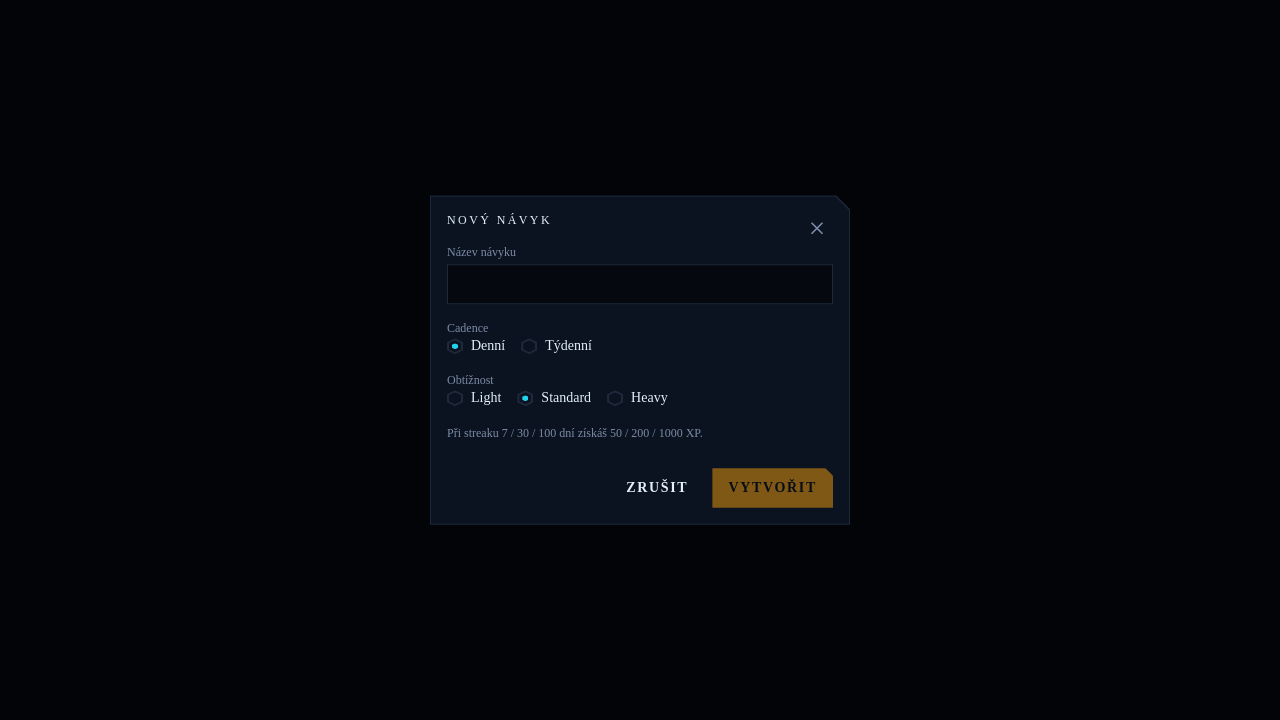
Scenario: HabitDialog (create mode) › shows weeklyTarget input when cadence=weekly is selected
The width and height of the screenshot is (1280, 720).
Click the radio button labelled "Týdenní" at [557, 346], box top-left (521, 336), bottom-right (592, 356)
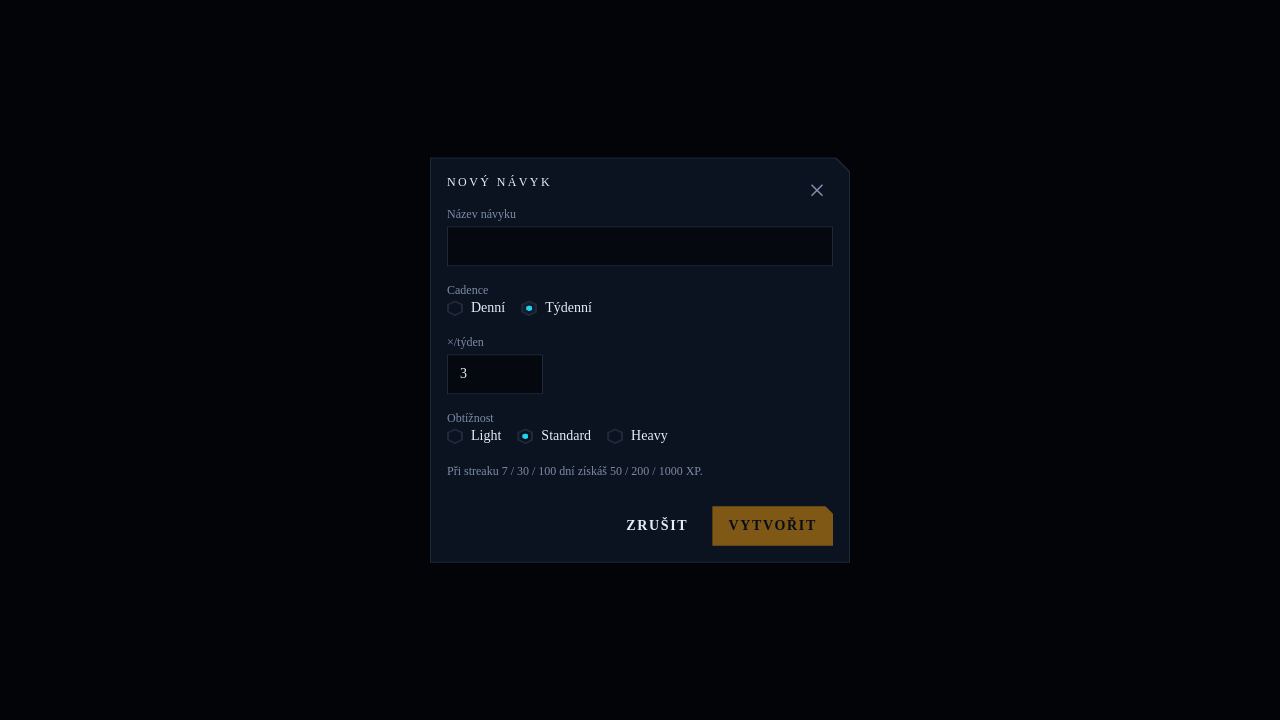
Check: the number field labelled "×/týden" is shown, box top-left (447, 354), bottom-right (543, 394)
